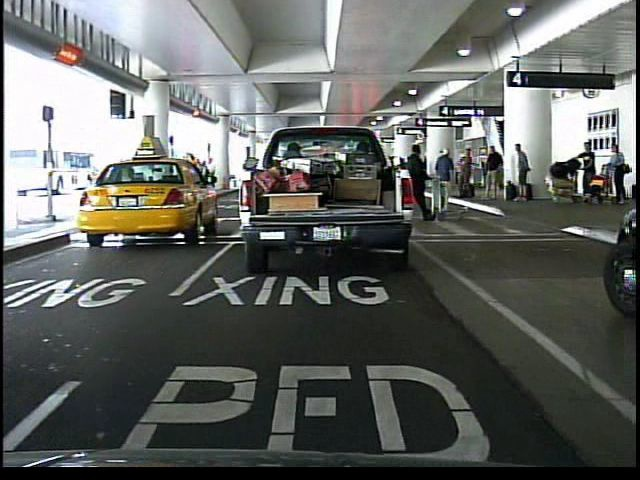person: (399, 139, 434, 222), (604, 142, 631, 212), (432, 146, 457, 216), (580, 141, 598, 180)
